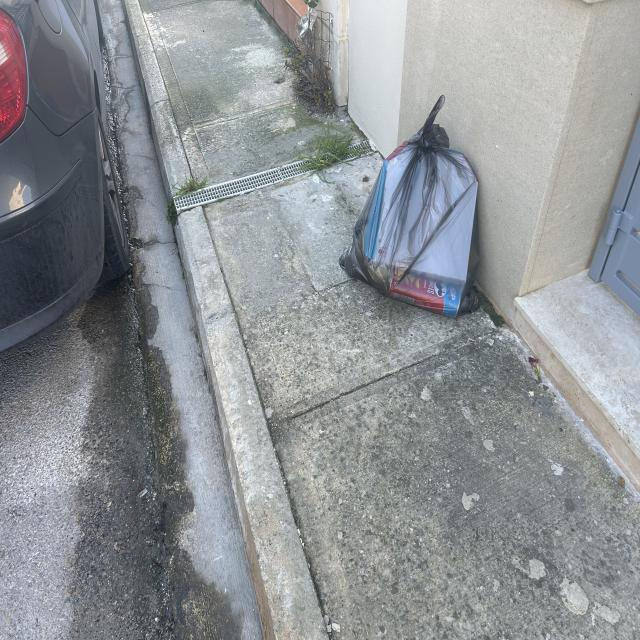black_bag: (336, 93, 484, 318)
